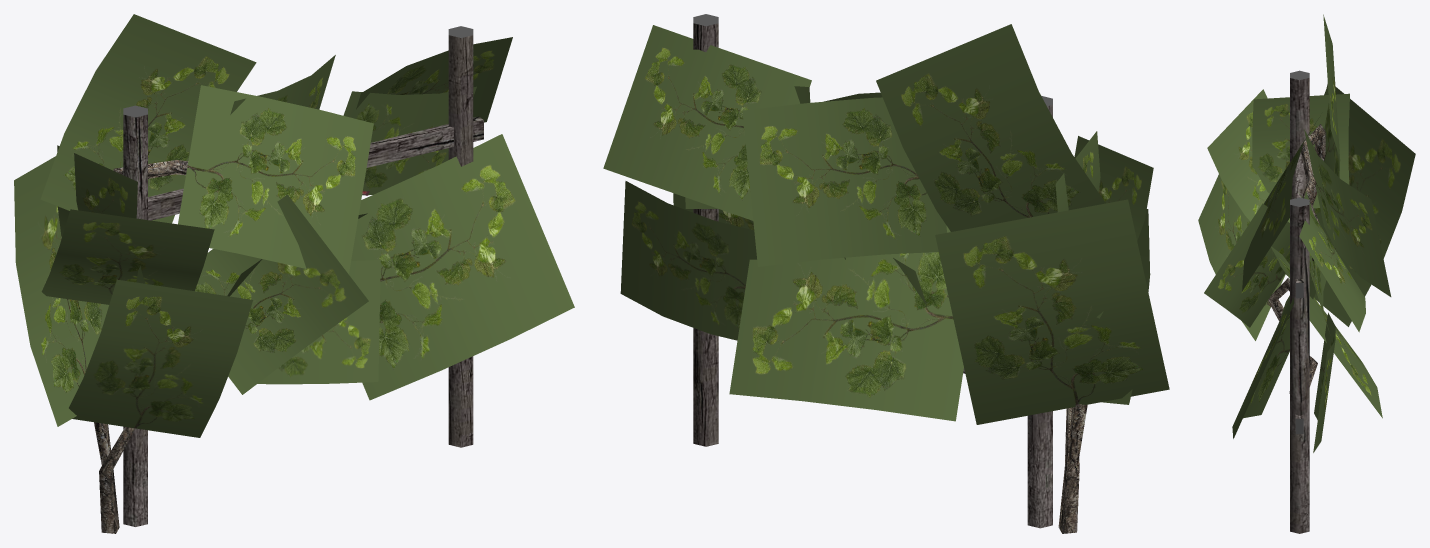
File: mw_grape_plant.FBX
3 views of the same model, side by side, from view 1: azimuth 30°, elevation 25°; view 2: azimuth 150°, elevation 25°; view 3: azimuth 270°, elevation 25° (orthographic). The views are drawn at different scales.
Visible parts, largest first — view 1: mw_grape_plant; view 2: mw_grape_plant; view 3: mw_grape_plant.
Boxes of the visible parts, bbox=[...] form: mw_grape_plant: bbox=[14, 14, 574, 533]; mw_grape_plant: bbox=[603, 14, 1169, 533]; mw_grape_plant: bbox=[1198, 14, 1415, 533].
Size of the model in its own units: 230 by 213 by 106.
